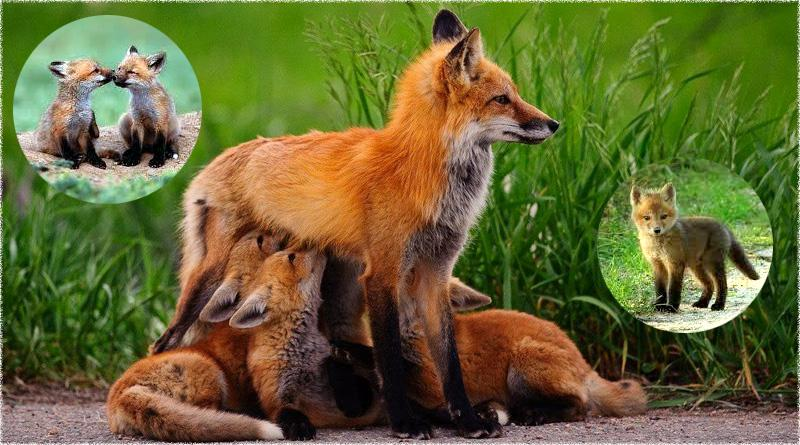LoboGuara: (191, 13, 566, 445), (393, 267, 651, 434), (103, 217, 280, 440), (251, 236, 394, 445), (623, 180, 762, 318), (106, 38, 187, 168), (37, 58, 116, 172)
